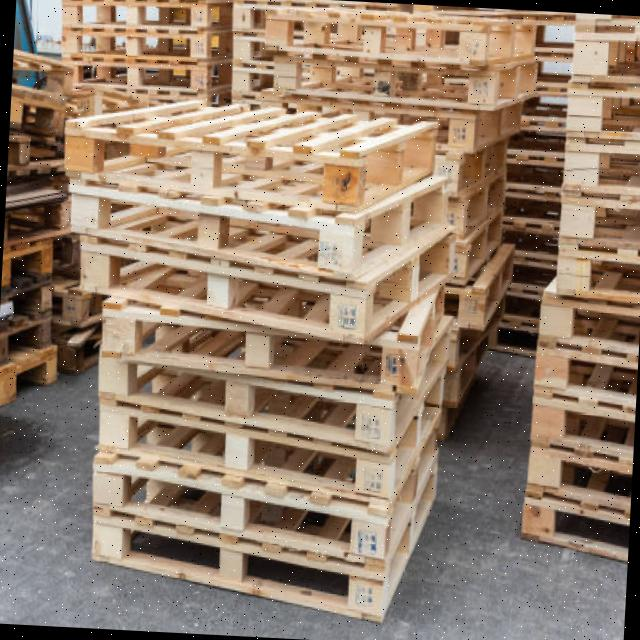Wooden-Pallets: (80, 378, 400, 504), (80, 500, 390, 626), (64, 229, 392, 346), (92, 292, 426, 402), (55, 172, 368, 278), (63, 118, 364, 214), (226, 29, 520, 113)
